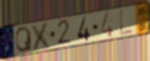2: (57, 18, 72, 48)
4: (76, 15, 92, 43), (101, 11, 114, 39)
L: (119, 9, 134, 37)
Q: (15, 25, 33, 53)
X: (30, 21, 52, 52)
